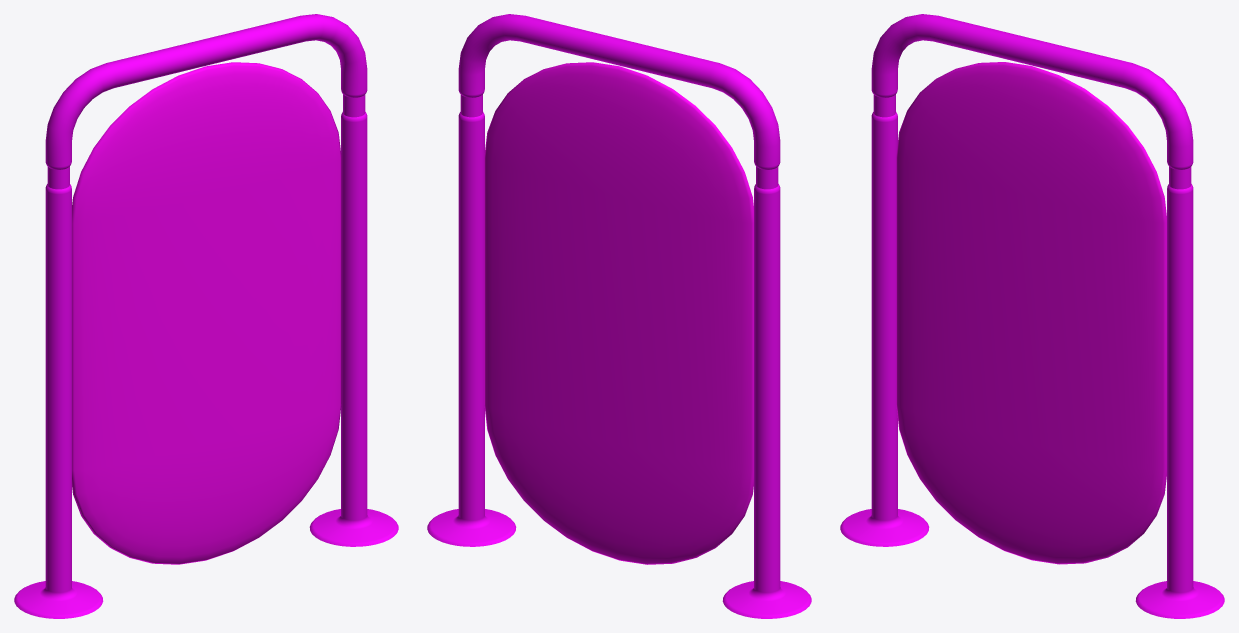
The model's file is GatePositive.fbx.
The picture shows the model from 3 angles, left to right: view 1: azimuth 30°, elevation 25°; view 2: azimuth 150°, elevation 25°; view 3: azimuth 330°, elevation 25°; orthographic projection.
Visible parts, largest first — view 1: Green, Pipe_a; view 2: Green, Pipe_a; view 3: Green, Pipe_a.
Boxes of the visible parts, <box> form: Green: <box>72,62,341,564</box>; Pipe_a: <box>14,14,398,618</box>; Green: <box>484,62,753,564</box>; Pipe_a: <box>427,14,811,618</box>; Green: <box>896,62,1166,564</box>; Pipe_a: <box>840,14,1224,618</box>.
Size of the model in its own units: 1367 by 1836 by 283.
